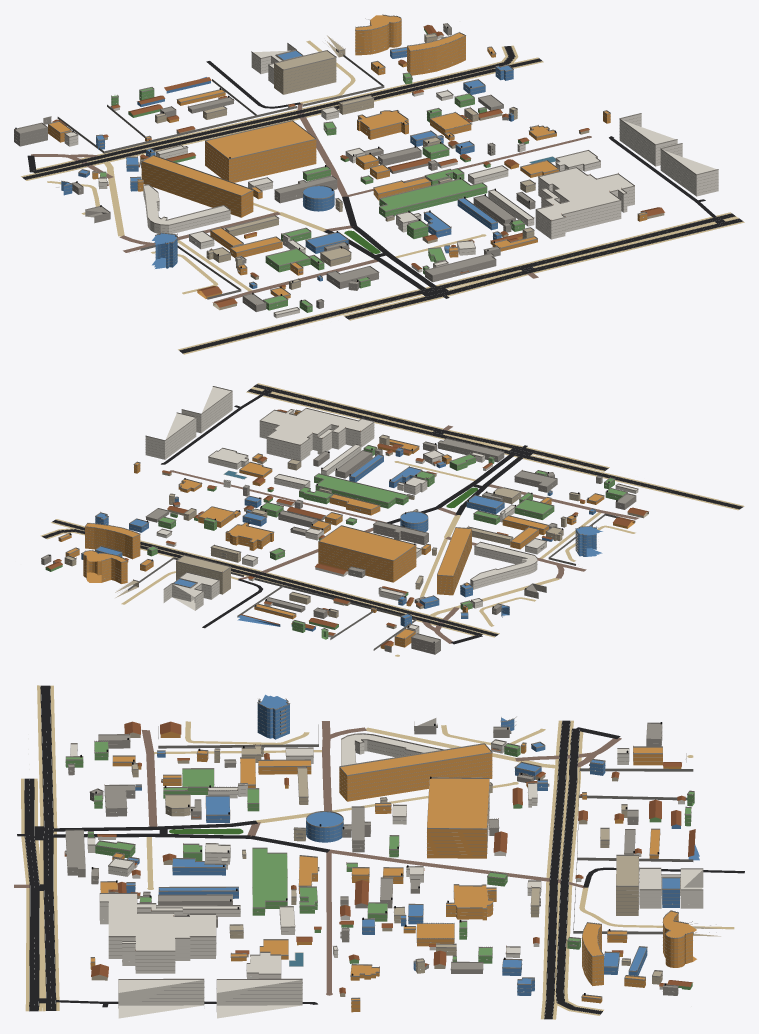
The model's file is zone_t4_0.glb.
The picture shows the model from 3 angles, top to bottom: view 1: azimuth 30°, elevation 25°; view 2: azimuth 150°, elevation 25°; view 3: azimuth 270°, elevation 25°; orthographic projection. The views are drawn at different scales.
Parts seen in each view (by area): view 1: bld_peinture_ocre_t4_0-col, bld_peinture_blanc_t4_0-col, parapet_t4_0, route_primary_bitume_t4_0, bld_beton_t4_0-col, bld_peinture_vert_t4_0-col, accotement_t4_0, bandeau_t4_0, bld_peinture_ecaillee_t4_0-col, bld_peinture_bleu_t4_0-col, toit_tole_t4_0, route_unclassified_paves_t4_0 (+5 smaller); view 2: bld_peinture_ocre_t4_0-col, bld_peinture_blanc_t4_0-col, parapet_t4_0, route_primary_bitume_t4_0, bld_beton_t4_0-col, bld_peinture_vert_t4_0-col, bld_peinture_bleu_t4_0-col, accotement_t4_0, bandeau_t4_0, bld_peinture_ecaillee_t4_0-col, toit_tole_t4_0, route_service_terre_t4_0 (+6 smaller); view 3: bld_peinture_blanc_t4_0-col, bld_peinture_ocre_t4_0-col, parapet_t4_0, route_primary_bitume_t4_0, bld_peinture_bleu_t4_0-col, accotement_t4_0, bld_peinture_vert_t4_0-col, bld_beton_t4_0-col, bandeau_t4_0, bld_peinture_ecaillee_t4_0-col, toit_tole_t4_0, route_unclassified_paves_t4_0 (+7 smaller).
Part boxes in pixels (<box>): bld_peinture_ocre_t4_0-col: <box>48,15,647,298</box>; bld_peinture_blanc_t4_0-col: <box>64,35,718,318</box>; parapet_t4_0: <box>14,14,718,315</box>; route_primary_bitume_t4_0: <box>22,46,743,353</box>; bld_beton_t4_0-col: <box>14,24,535,311</box>; bld_peinture_vert_t4_0-col: <box>100,28,528,312</box>; accotement_t4_0: <box>21,45,744,354</box>; bandeau_t4_0: <box>14,23,718,309</box>; bld_peinture_ecaillee_t4_0-col: <box>104,34,664,310</box>; bld_peinture_bleu_t4_0-col: <box>61,48,513,288</box>; toit_tole_t4_0: <box>52,25,664,307</box>; route_unclassified_paves_t4_0: <box>81,113,377,302</box>; bld_peinture_ocre_t4_0-col: <box>58,410,634,649</box>; bld_peinture_blanc_t4_0-col: <box>53,387,638,637</box>; parapet_t4_0: <box>41,386,638,647</box>; route_primary_bitume_t4_0: <box>42,384,742,636</box>; bld_beton_t4_0-col: <box>41,439,636,654</box>; bld_peinture_vert_t4_0-col: <box>45,445,626,639</box>; bld_peinture_bleu_t4_0-col: <box>81,448,602,631</box>; accotement_t4_0: <box>40,383,744,637</box>; bandeau_t4_0: <box>41,394,635,651</box>; bld_peinture_ecaillee_t4_0-col: <box>64,435,648,628</box>; toit_tole_t4_0: <box>45,409,648,645</box>; route_service_terre_t4_0: <box>121,461,635,656</box>; bld_peinture_blanc_t4_0-col: <box>70,734,703,1018</box>; bld_peinture_ocre_t4_0-col: <box>90,734,696,1012</box>; parapet_t4_0: <box>65,698,716,1001</box>; route_primary_bitume_t4_0: <box>24,685,602,1019</box>; bld_peinture_bleu_t4_0-col: <box>126,694,699,995</box>; accotement_t4_0: <box>21,685,603,1019</box>; bld_peinture_vert_t4_0-col: <box>65,742,694,989</box>; bld_beton_t4_0-col: <box>65,718,678,995</box>; bandeau_t4_0: <box>65,707,716,1011</box>; bld_peinture_ecaillee_t4_0-col: <box>91,734,720,996</box>; toit_tole_t4_0: <box>91,721,695,993</box>; route_unclassified_paves_t4_0: <box>141,721,569,882</box>.
Bounding box in the file's own units: 589 × 26 × 544.
